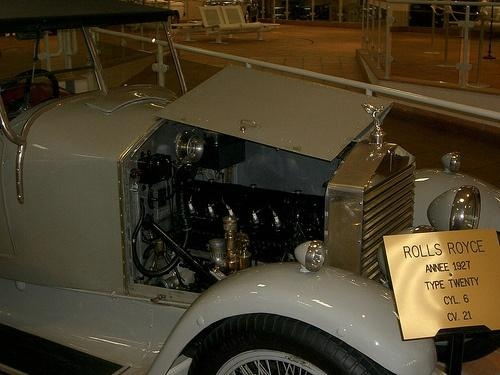car: (2, 2, 499, 375)
